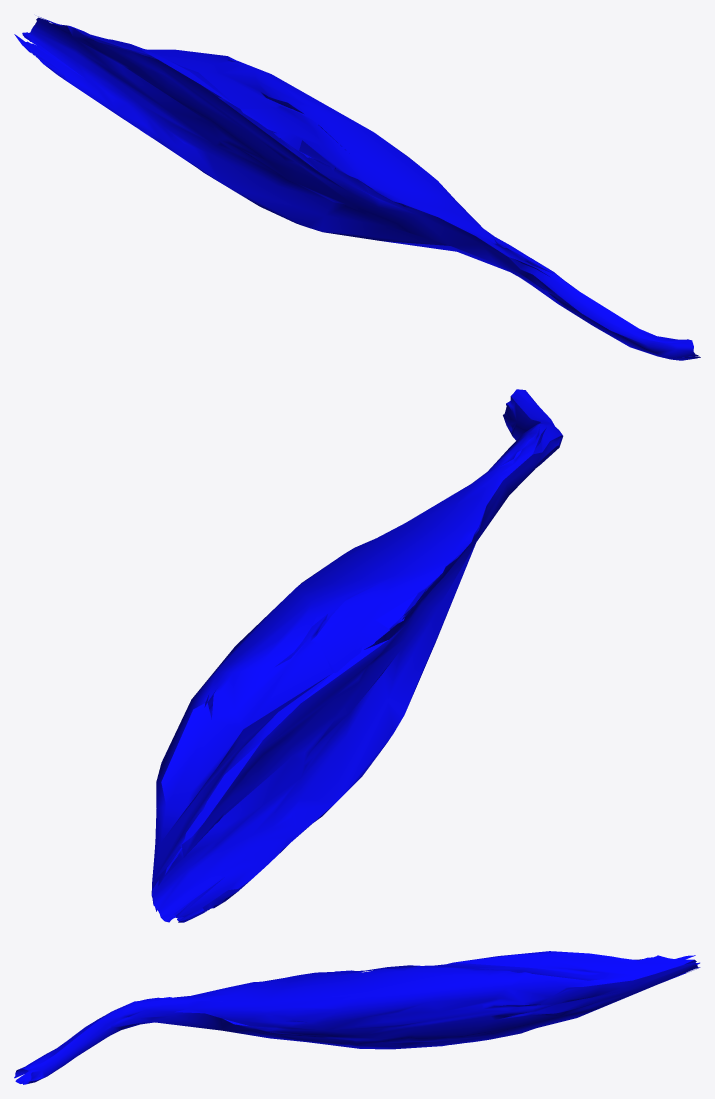
File: SHORT_BICEPS_BRACHII.obj
3 views of the same model, one above another, from view 1: azimuth 30°, elevation 25°; view 2: azimuth 150°, elevation 25°; view 3: azimuth 270°, elevation 25° (orthographic). The views are drawn at different scales.
Parts seen in each view (by area): view 1: arm:Biceps_brachii arm:FJ1512_grp1 arm:MAIN arm:MUSCLE arm:polyS; view 2: arm:Biceps_brachii arm:FJ1512_grp1 arm:MAIN arm:MUSCLE arm:polyS; view 3: arm:Biceps_brachii arm:FJ1512_grp1 arm:MAIN arm:MUSCLE arm:polyS.
Part boxes in pixels (x1=…): arm:Biceps_brachii arm:FJ1512_grp1 arm:MAIN arm:MUSCLE arm:polyS: x1=14, y1=16, x2=700, y2=360; arm:Biceps_brachii arm:FJ1512_grp1 arm:MAIN arm:MUSCLE arm:polyS: x1=151, y1=389, x2=563, y2=922; arm:Biceps_brachii arm:FJ1512_grp1 arm:MAIN arm:MUSCLE arm:polyS: x1=14, y1=951, x2=700, y2=1084.
Size of the model in its own units: 76.4 by 33.14 by 260.
